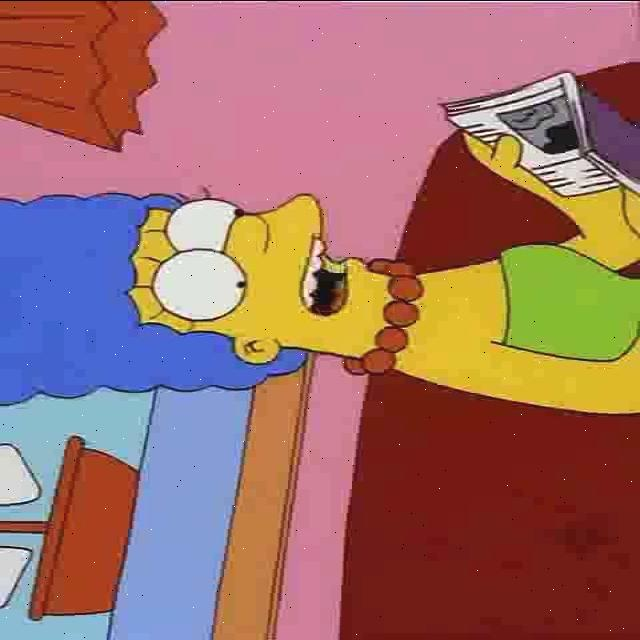Marge Simpson: (0, 188, 424, 394)
